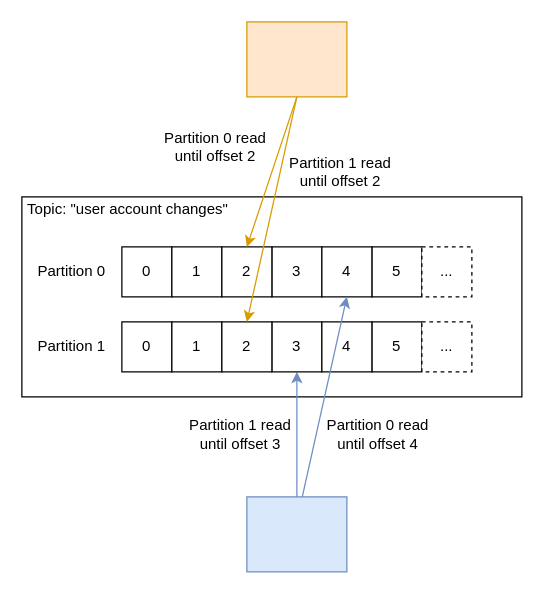
Image size: 544x594. Some labels were removed from this diagram. Each missing label, with the box of its shape:
Consumer group: "group management service": (246, 496, 347, 572)
Consumer group: "some other service": (246, 21, 347, 97)
